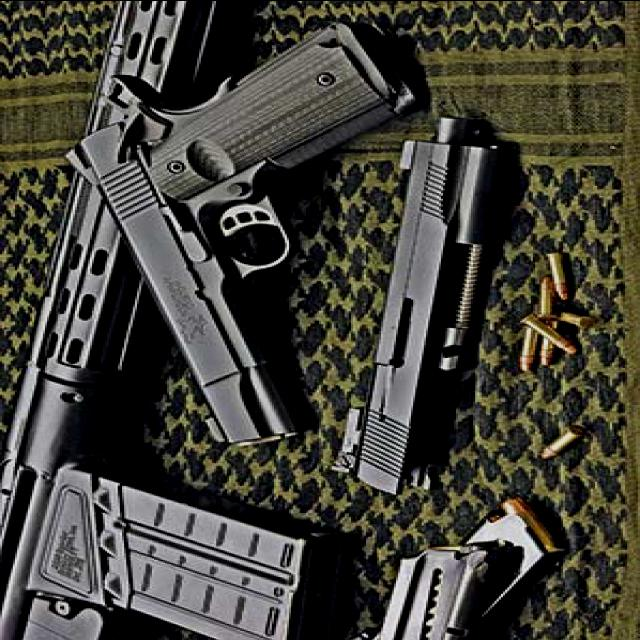handgun: (58, 17, 409, 447)
